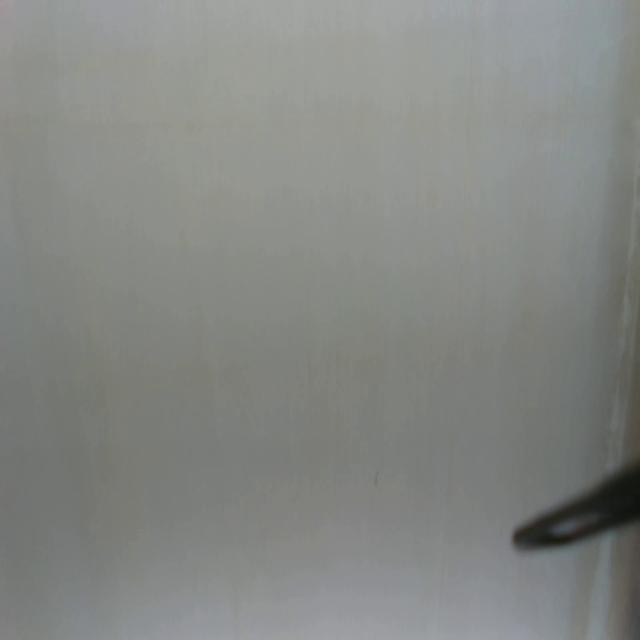crease: (432, 449, 457, 640)
hole: (374, 463, 379, 493)
